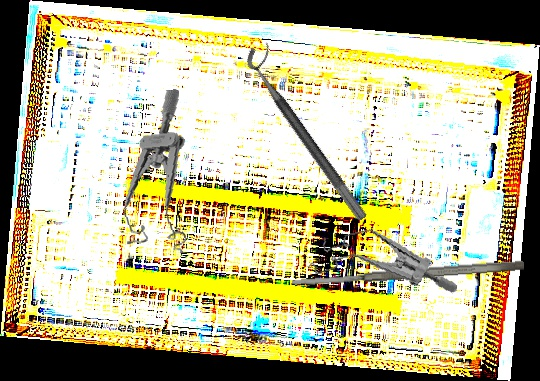Fixation Ring: (240, 38, 382, 223)
Spatula Surgical: (291, 258, 525, 289)
Speculum: (301, 210, 459, 323), (108, 88, 199, 260)
